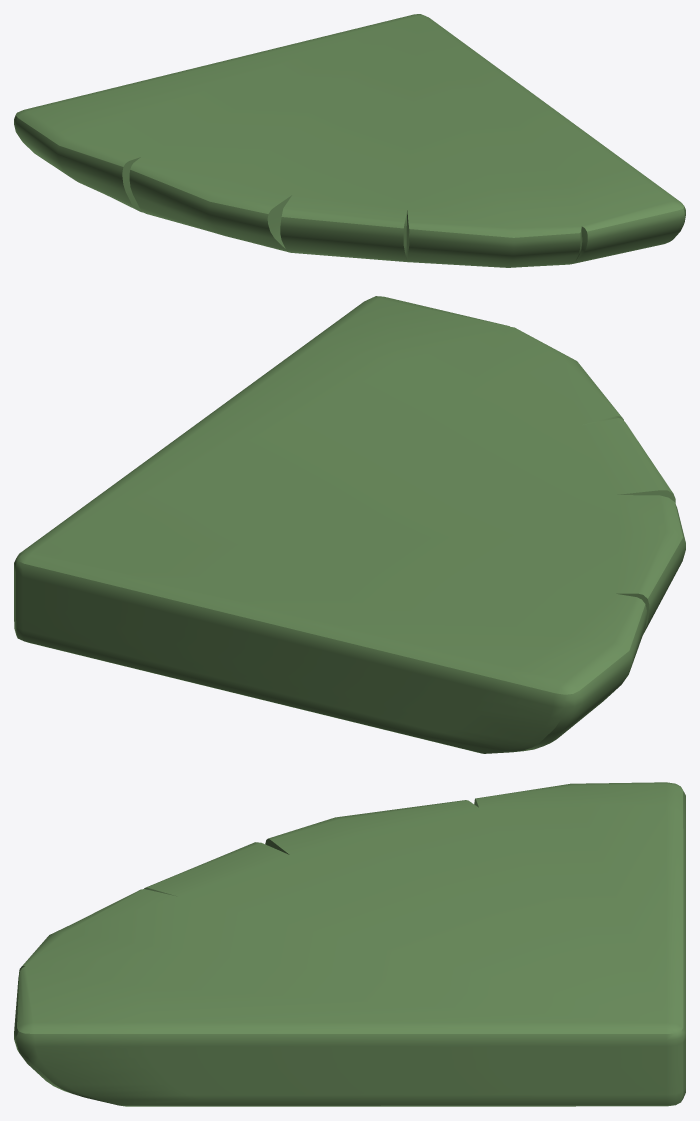
The model's file is Mostruario_02.fbx.
3 renders of one model, top to bottom at view 1: azimuth 30°, elevation 25°; view 2: azimuth 150°, elevation 25°; view 3: azimuth 270°, elevation 25°, orthographic. The views are drawn at different scales.
Parts seen in each view (by area): view 1: M2; view 2: M2; view 3: M2.
Boxes of the visible parts, bbox=[...] form: M2: bbox=[14, 14, 685, 267]; M2: bbox=[14, 296, 685, 753]; M2: bbox=[14, 782, 685, 1106].
Bounding box in the file's own units: 44.48 × 6.82 × 49.94.
